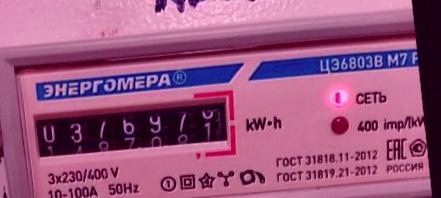0: (41, 121, 58, 144)
1: (202, 119, 214, 142)
3: (69, 121, 84, 143)
6: (120, 111, 137, 136)
7: (94, 115, 111, 139), (174, 107, 190, 131)
9: (147, 111, 163, 134)
screen: (23, 85, 243, 178)
